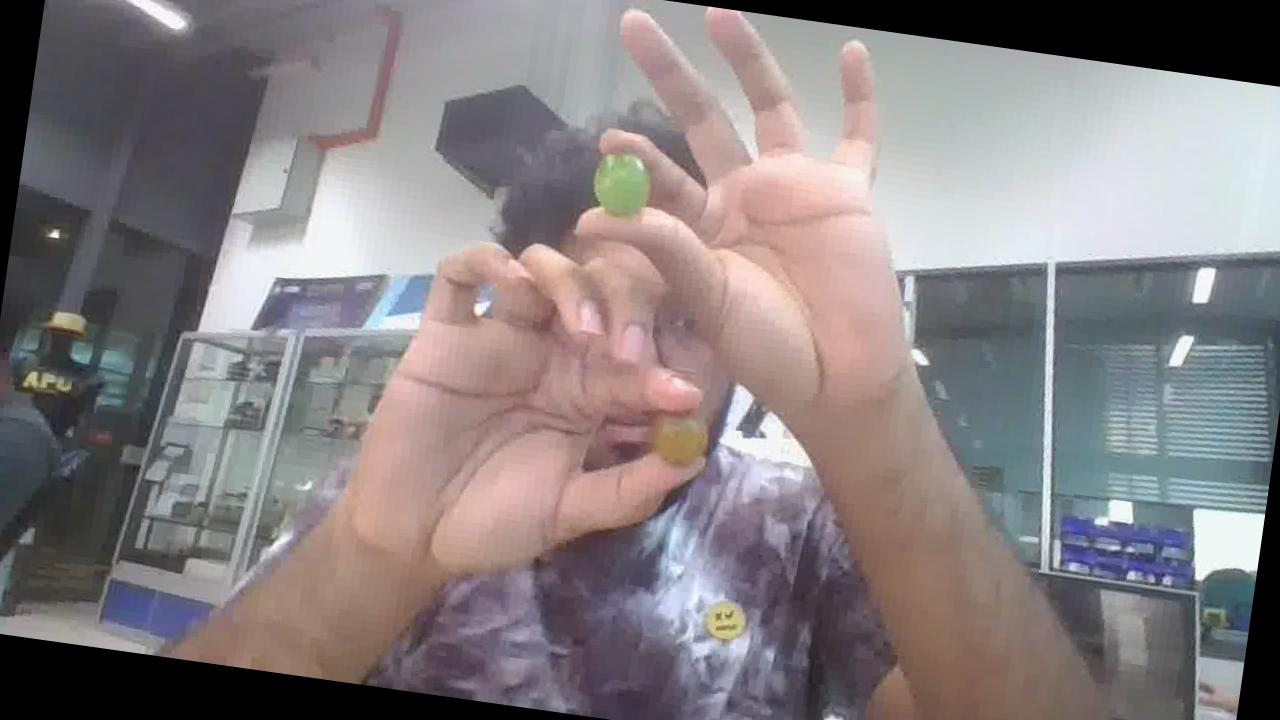green_cherry_tomato: (593, 152, 650, 216)
yellow_cherry_tomato: (650, 413, 706, 465)
